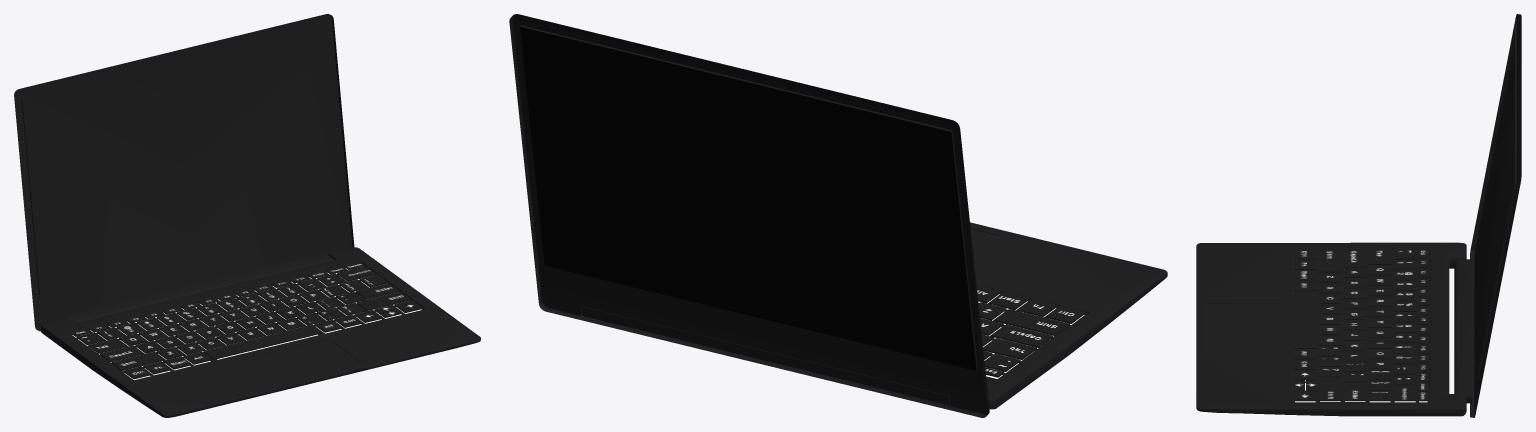
The model's file is laptop.glb.
3 views of the same model, side by side, from view 1: azimuth 30°, elevation 25°; view 2: azimuth 150°, elevation 25°; view 3: azimuth 270°, elevation 25° (orthographic). The views are drawn at different scales.
Visible parts, largest first — view 1: Cube.001, laptop, Cube.004, Cube.002, backlight; view 2: Cube.001, laptop, Cube.004, Cube.002; view 3: laptop, Cube.004, Cube.001, Cube.002.
Part boxes in pixels (x1,y1,x2,y2): Cube.001: (14,14,354,331); laptop: (41,247,480,417); Cube.004: (71,262,423,379); Cube.002: (65,253,333,322); backlight: (72,268,421,380); Cube.001: (509,14,989,417); laptop: (970,222,1167,409); Cube.004: (976,285,1086,377); Cube.002: (581,306,950,406); laptop: (1196,242,1466,416); Cube.004: (1294,249,1427,401); Cube.001: (1470,14,1521,417); Cube.002: (1454,259,1471,403).
Size of what is drawn, in the model's own units: 4.38 by 2.97 by 3.62.
4 materials, 1 textured.
